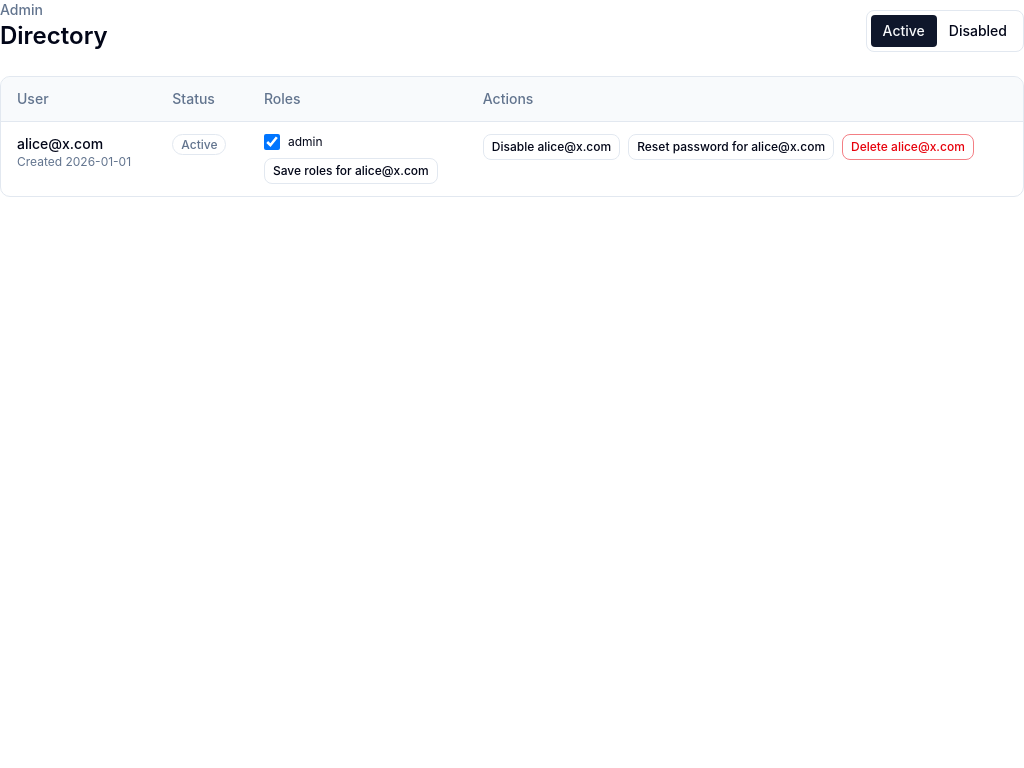
Test: DirectoryPage › resets a user password and sends the new password body
Click the button "Reset password for alice@x.com".
click(731, 147)  # box [628, 134, 834, 160]
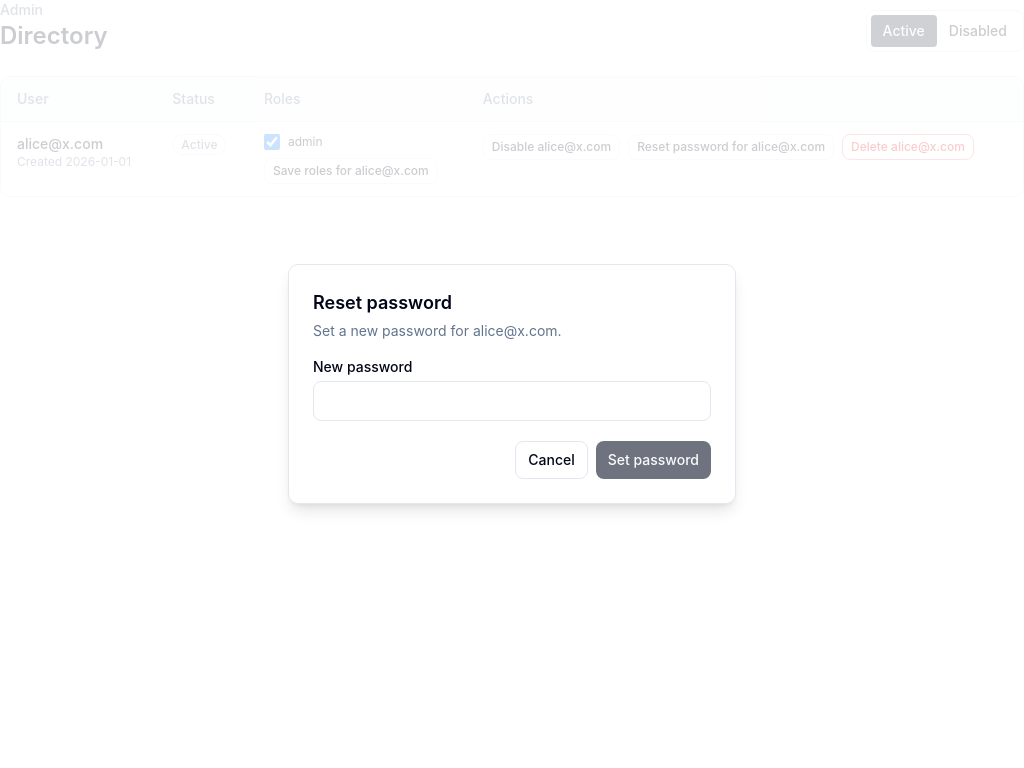
Type "NewPass123!" into the password field labelled "New password".
click(512, 401); type("NewPass123!")  # box [313, 381, 711, 421]
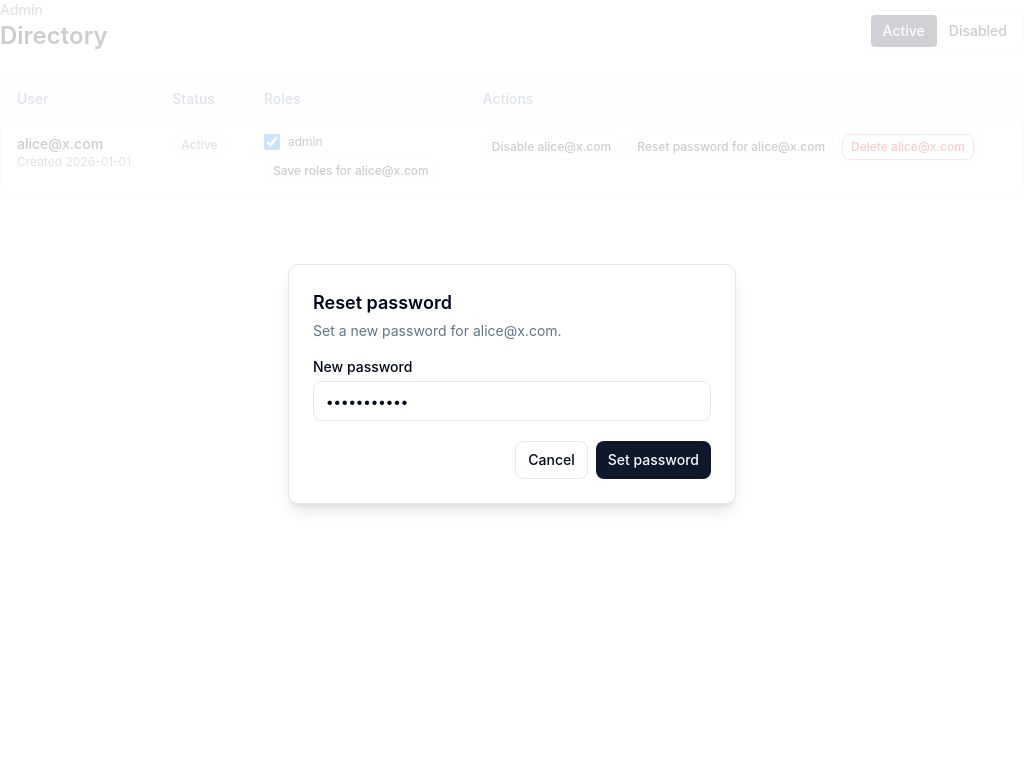
Click the button "Set password".
click(653, 460)  # box [596, 441, 711, 479]
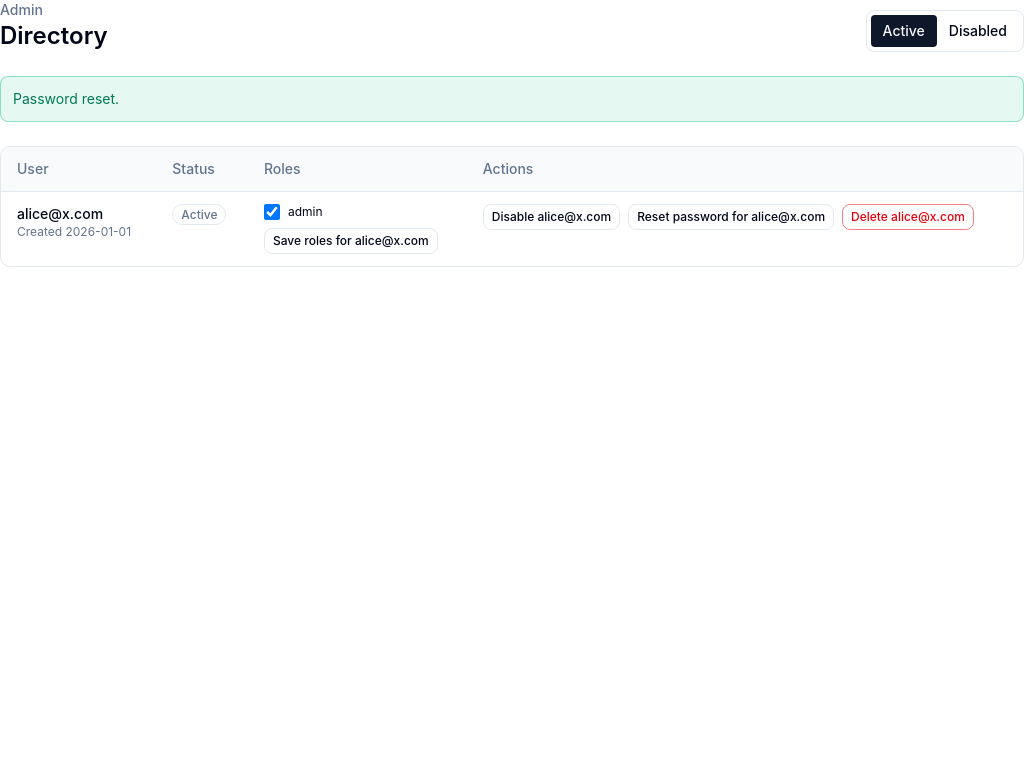
Result: the text "Password reset." is shown at [0, 76, 1023, 122]
